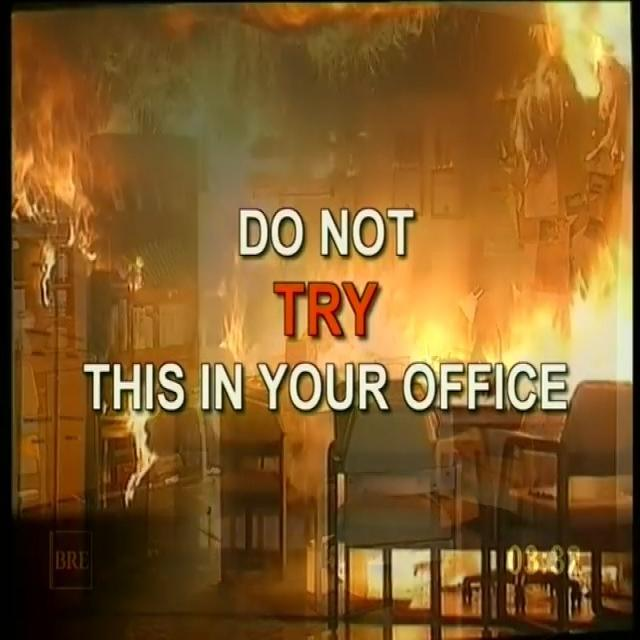Fire: (13, 13, 224, 267)
